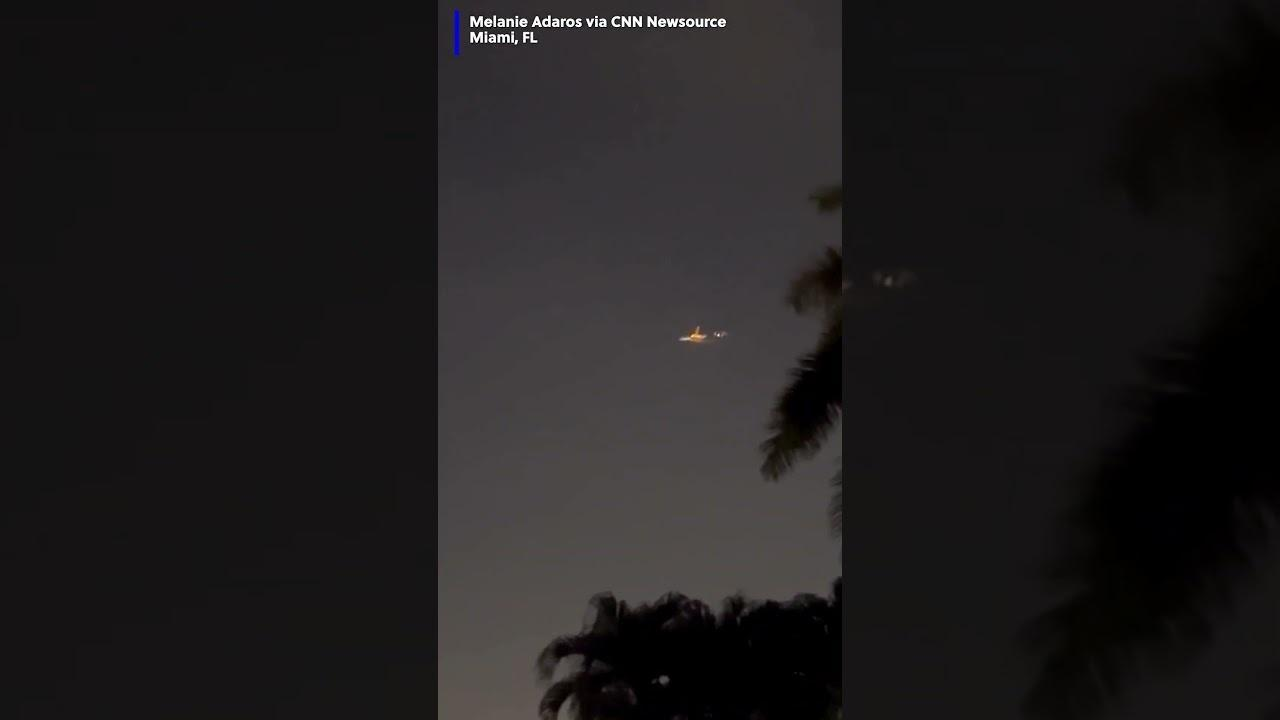Plane: (647, 312, 749, 360)
